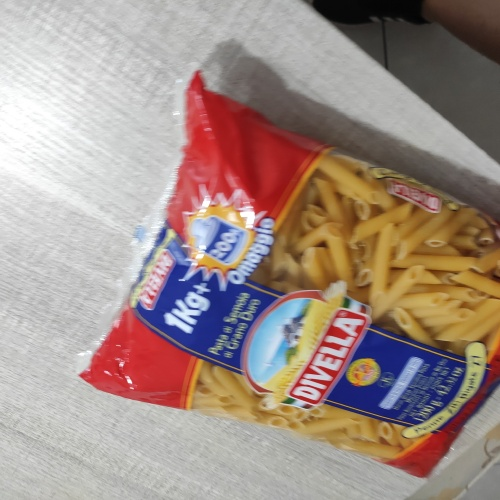pasta: (120, 118, 469, 479)
